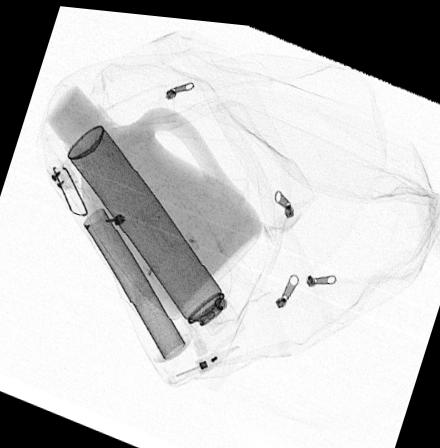Sprayer: (64, 120, 245, 347)
